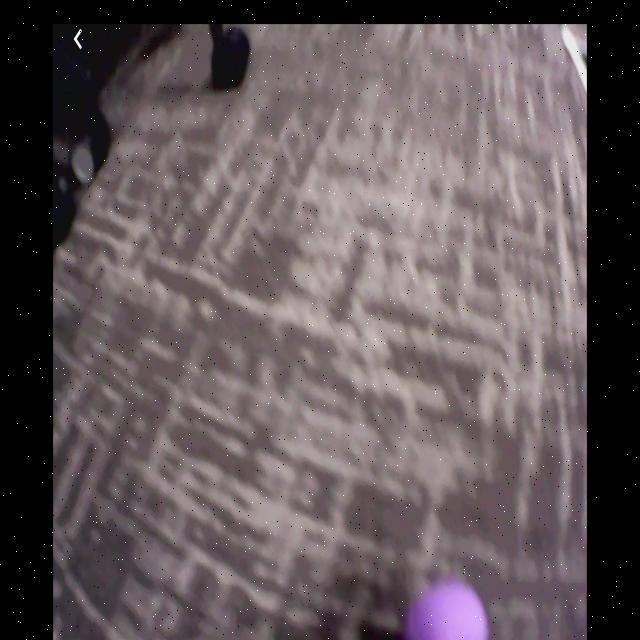ball: (403, 579, 491, 640)
